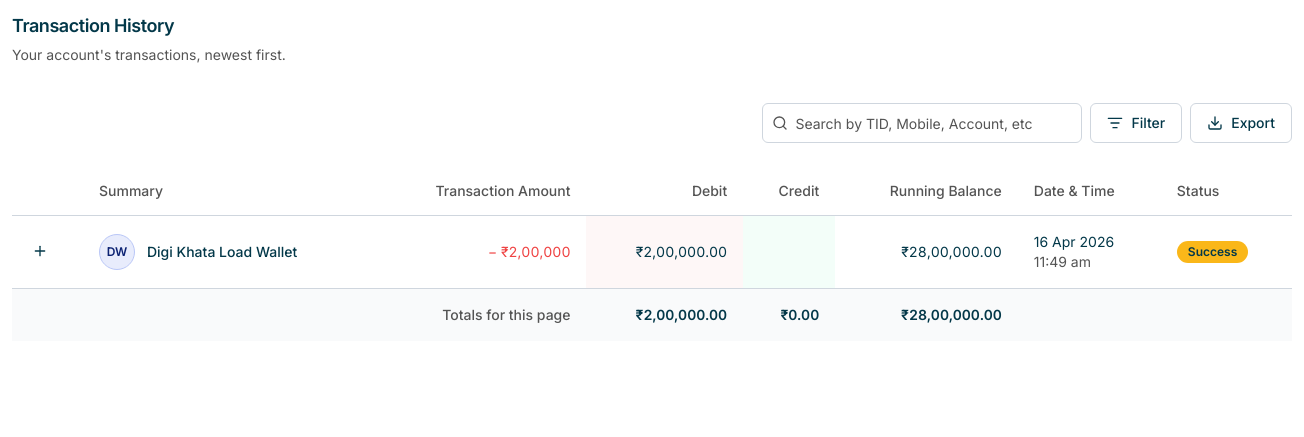
Transactions › expands a row to reveal its other details
The width and height of the screenshot is (1304, 437).
Check: the text "Digi Khata Load Wallet" is shown, box [147,242,297,262]
Check: the text "Other Details" is not shown
Click the button named "show details for".
click(40, 251)  # box [28,239,52,263]
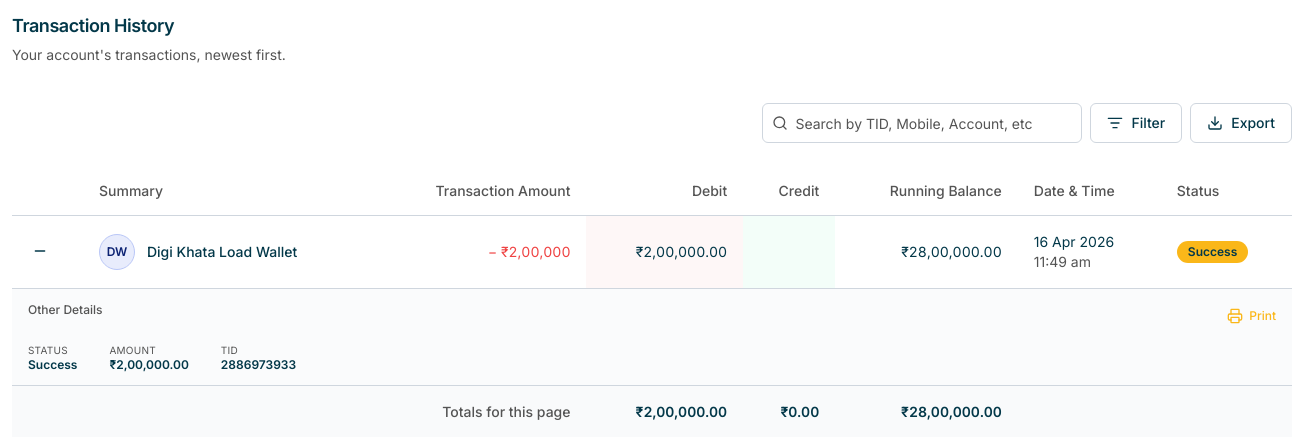
Check: the text "Other Details" is shown, box [28,300,103,318]
Check: the text "TID" is shown, box [221,344,238,356]
Click the button named "hide details for".
click(40, 251)  # box [28,239,52,263]
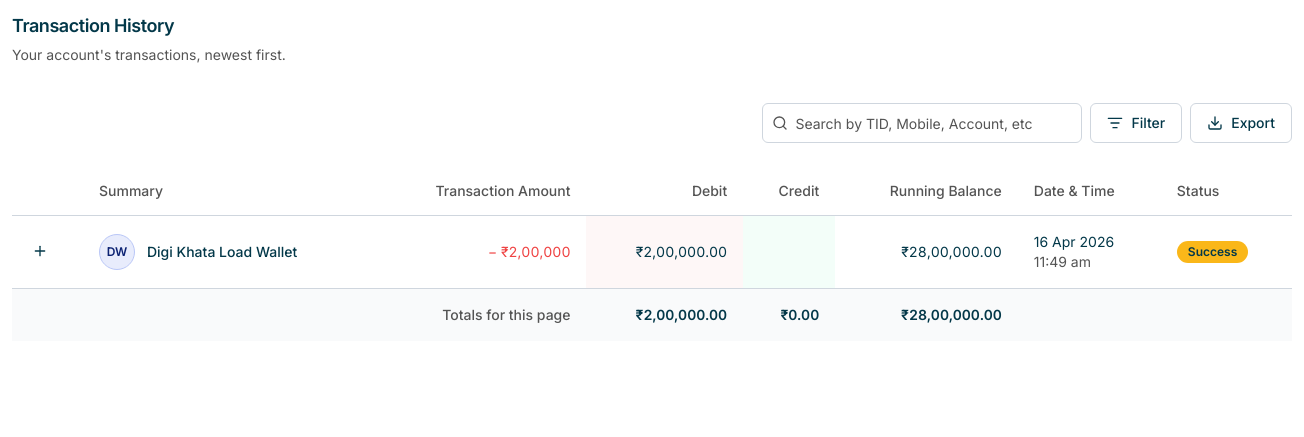
Check: the text "Other Details" is gone
